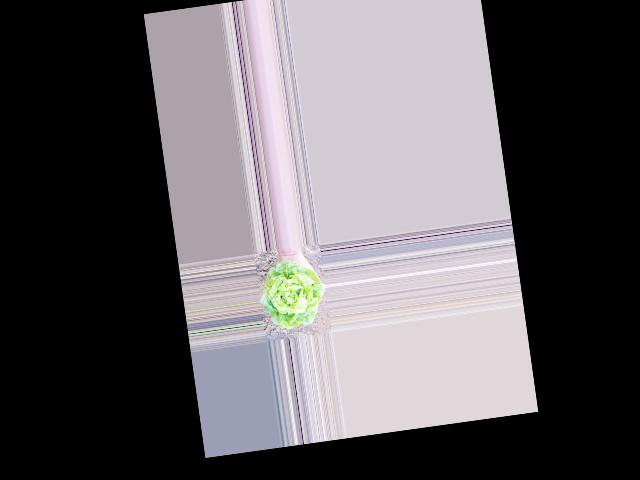lettuce: (257, 259, 327, 333)
